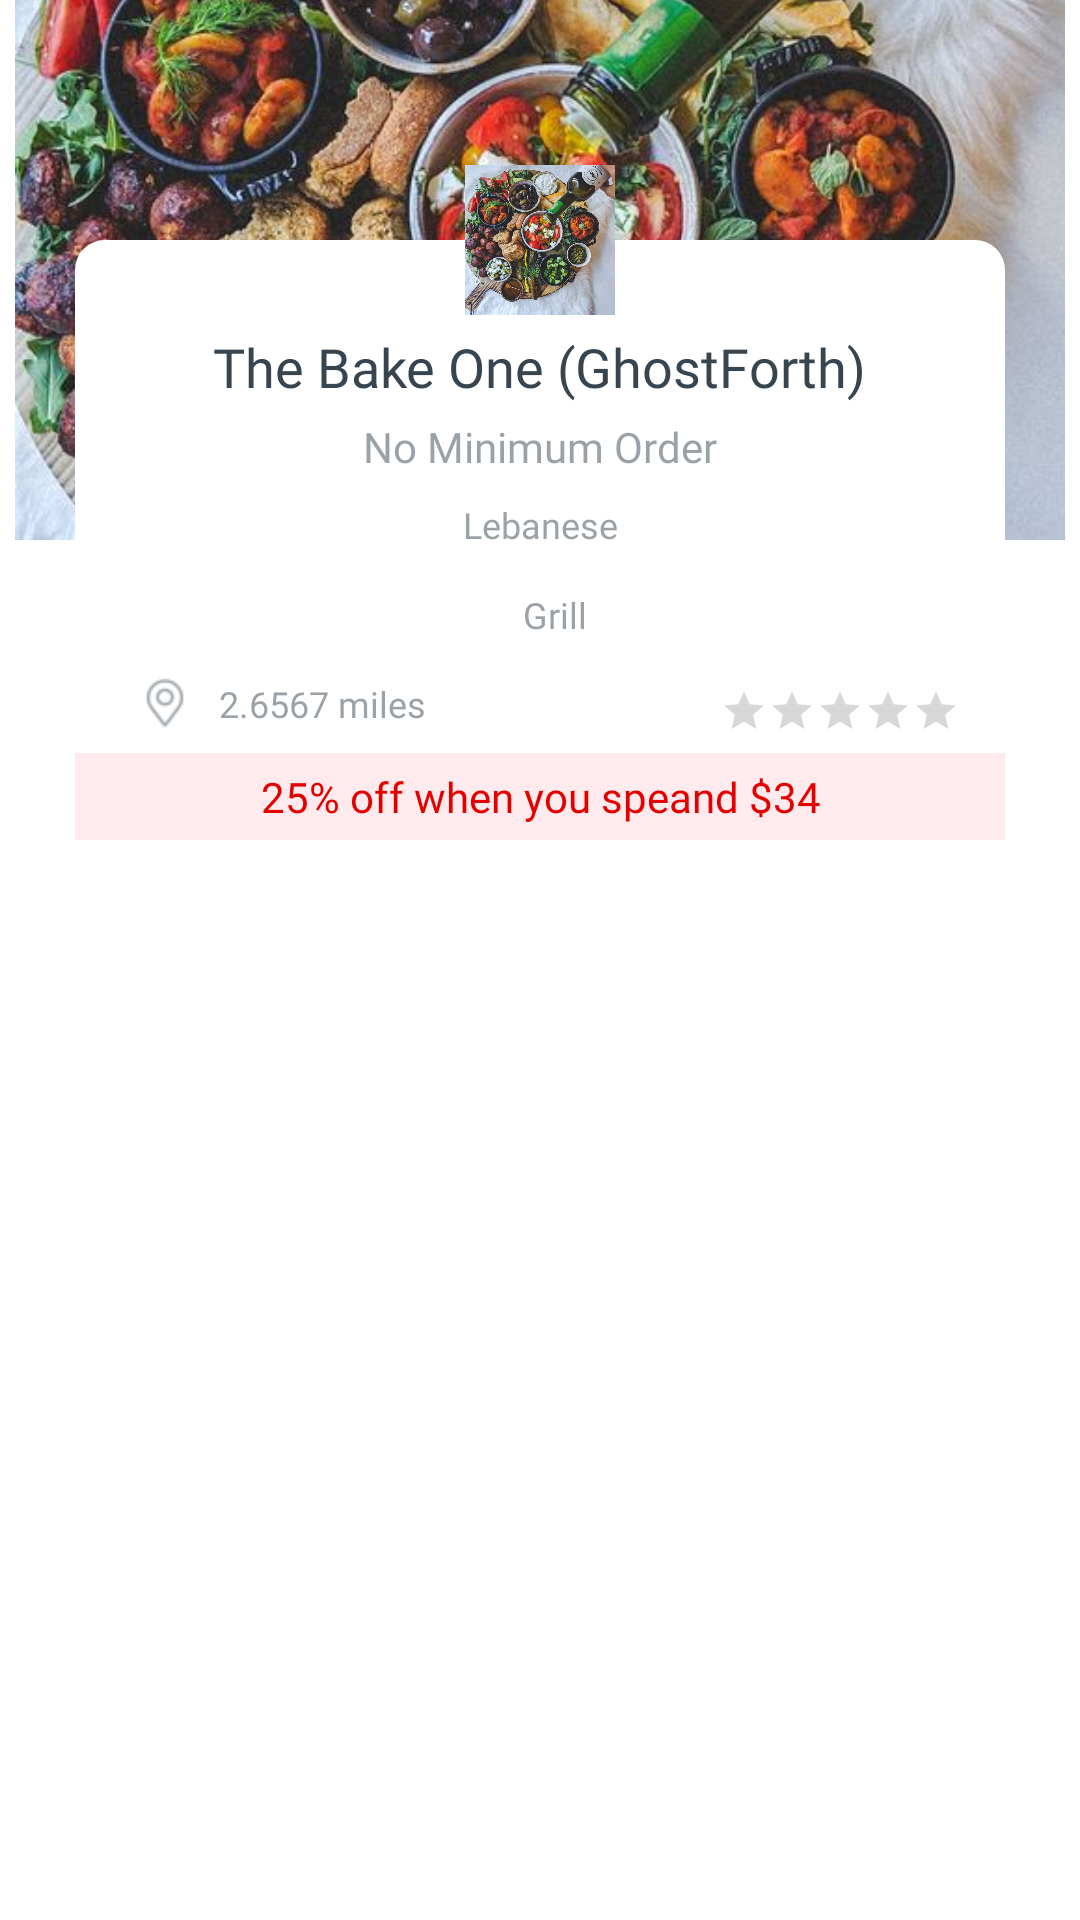

Icon click points for this 1080px×1920px phone screenshot, format (x=x, y=y):
location marker: (x=165, y=703)
